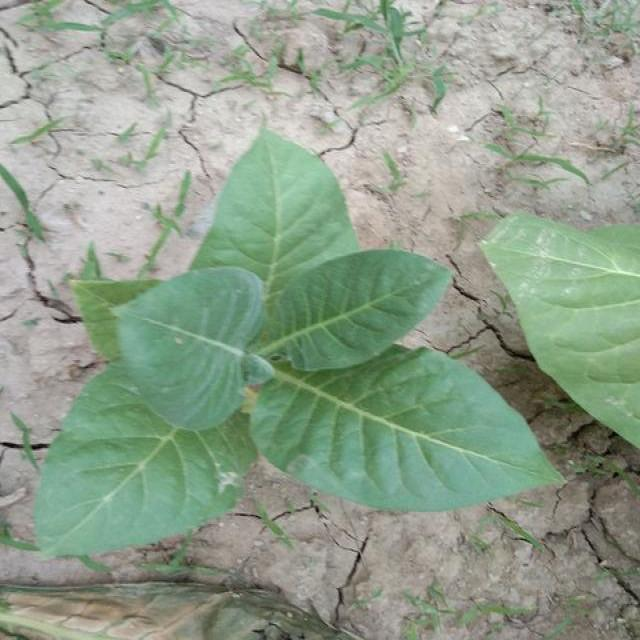crop: (23, 134, 561, 550)
